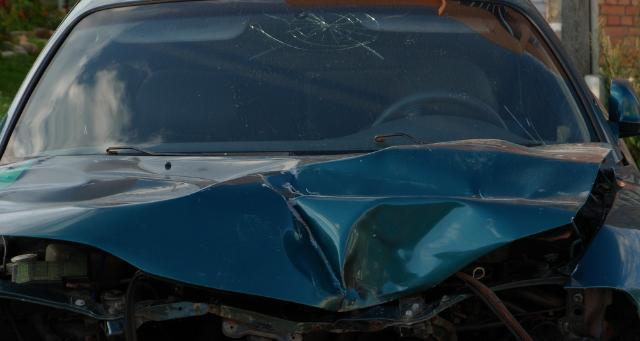dent: (0, 138, 601, 315)
glass shatter: (0, 0, 601, 167)
